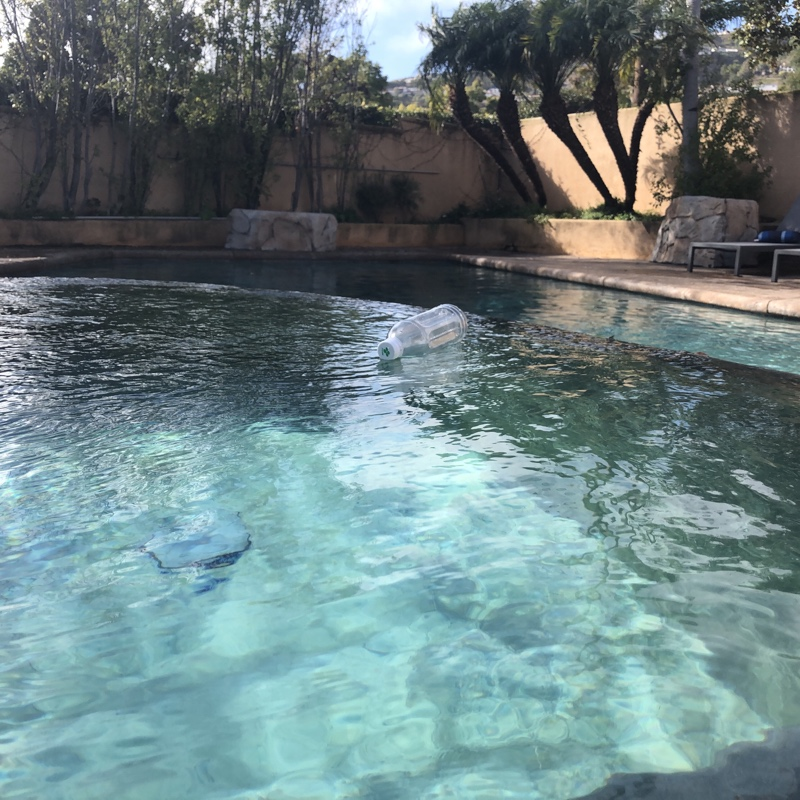Plastic Bottle: (373, 302, 471, 368)
